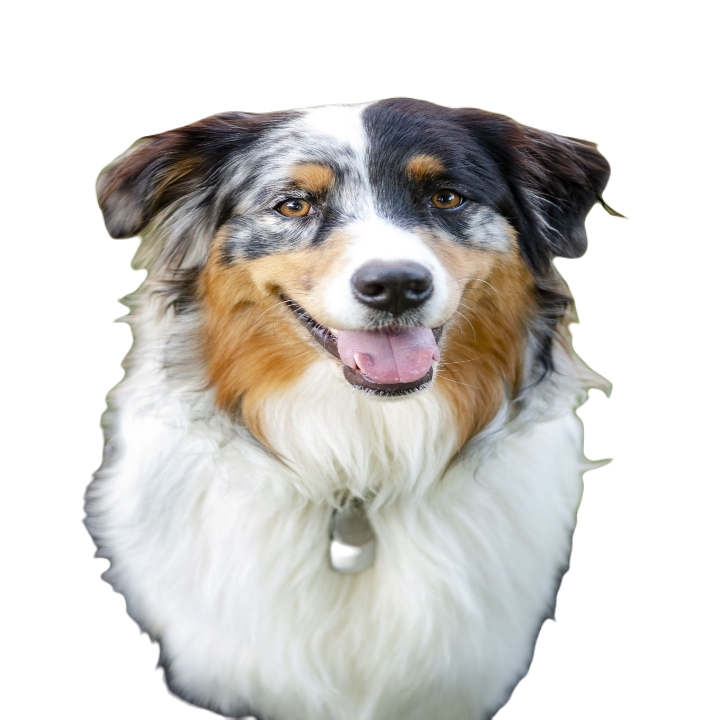Dog: (91, 98, 611, 719)
